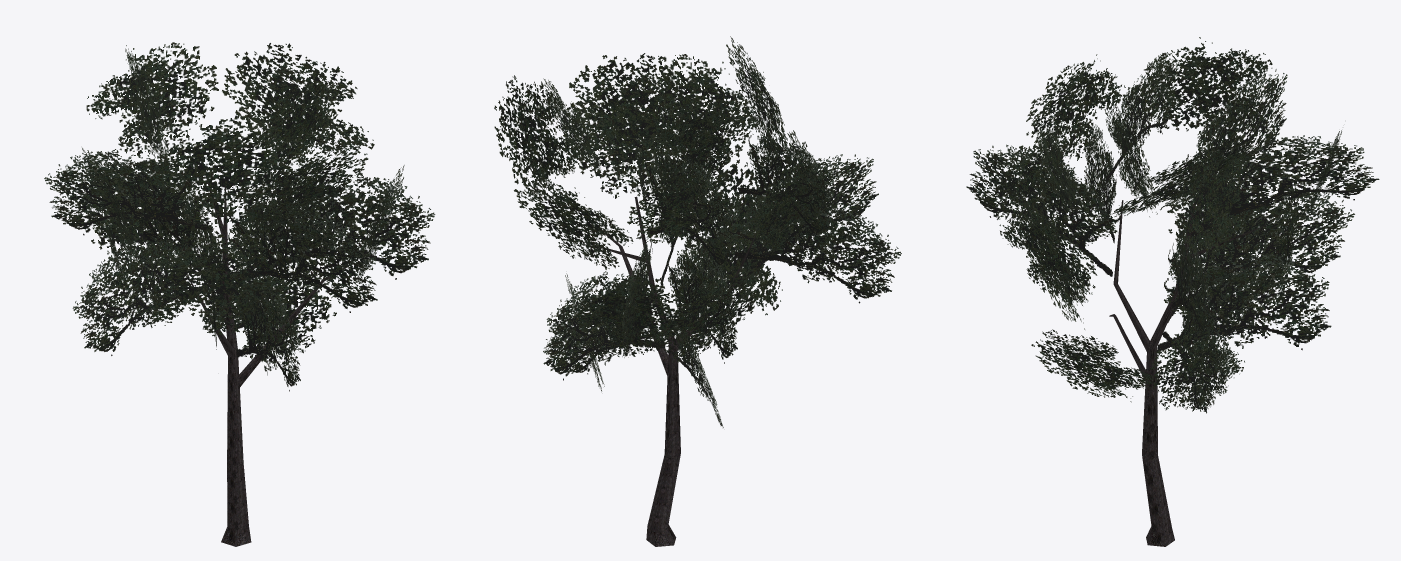
The model's file is stage-metr-p5-2.glb.
3 renders of one model, left to right at view 1: azimuth 30°, elevation 25°; view 2: azimuth 150°, elevation 25°; view 3: azimuth 270°, elevation 25°, orthographic. The views are drawn at different scales.
Size of the model in its own units: 11.85 by 14.36 by 11.44.
Materials: 3 (3 with a texture image).
